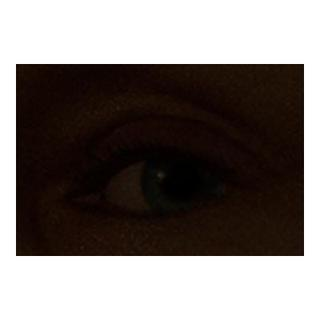pupil: (165, 165, 197, 197)
